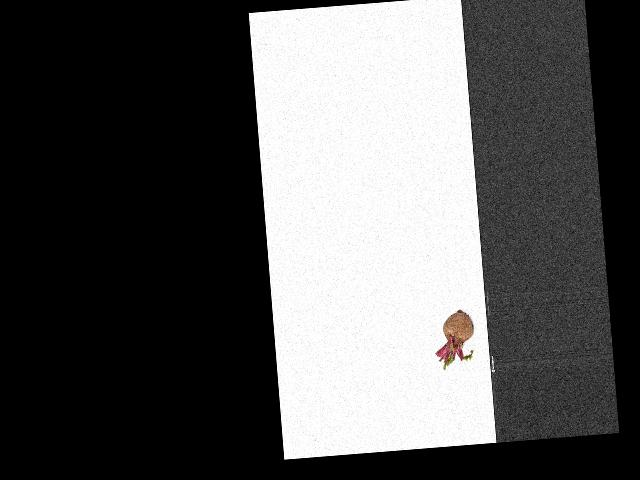beet: (432, 308, 476, 370)
